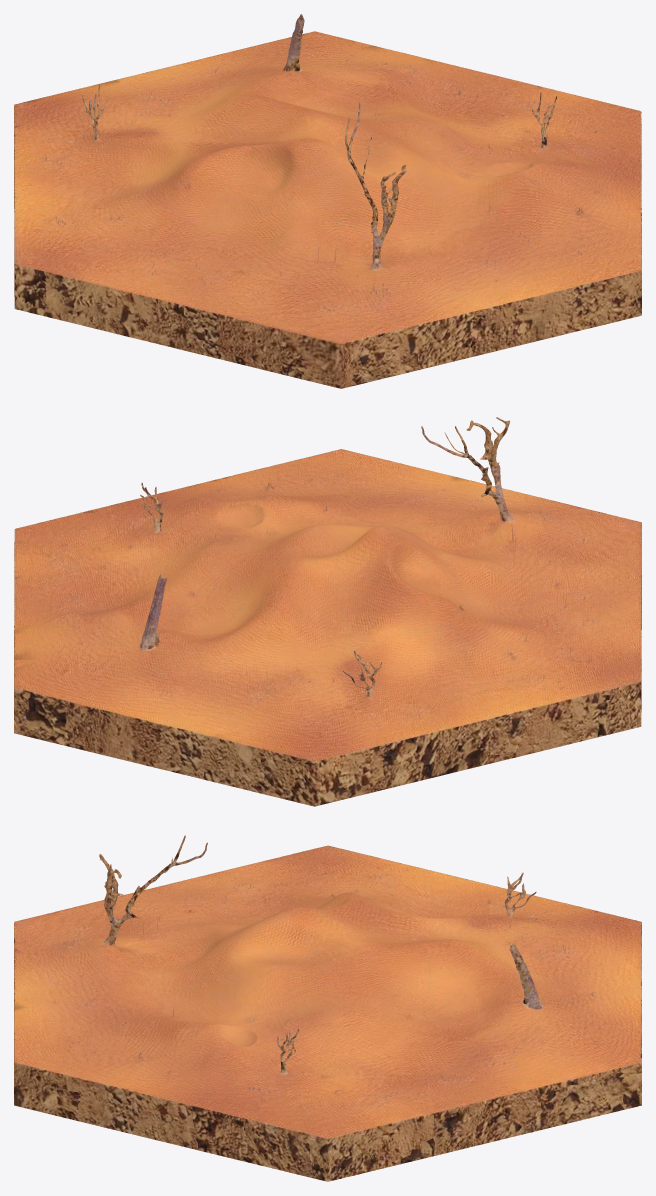
The model's file is Desert.glb.
3 renders of one model, top to bottom at view 1: azimuth 30°, elevation 25°; view 2: azimuth 150°, elevation 25°; view 3: azimuth 270°, elevation 25°, orthographic. The views are drawn at different scales.
Bounding box in the file's own units: 1.9 × 0.5383 × 1.72.
Materials: 1 (1 with a texture image).
